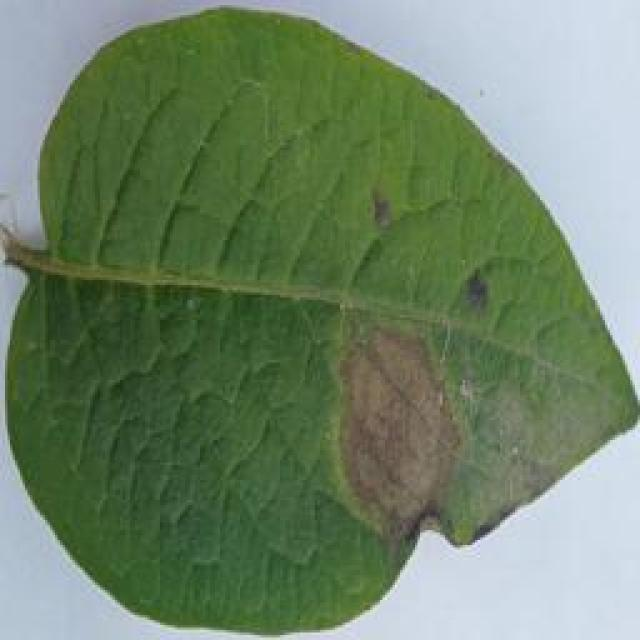Potato_Late_Blight: (6, 7, 629, 634)
